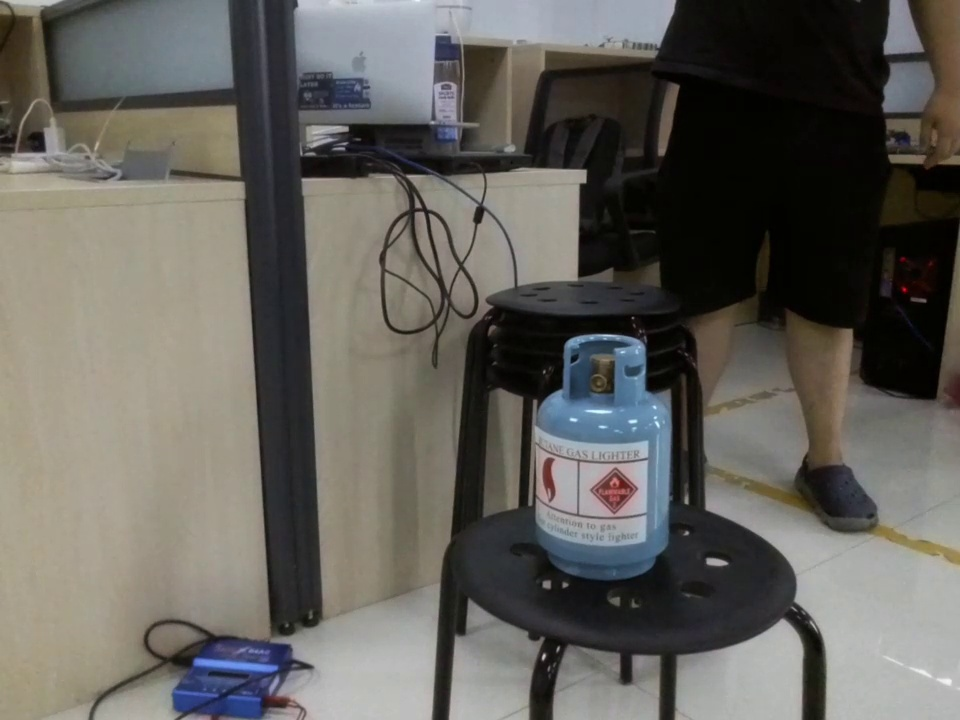gas tank: (532, 332, 675, 590)
